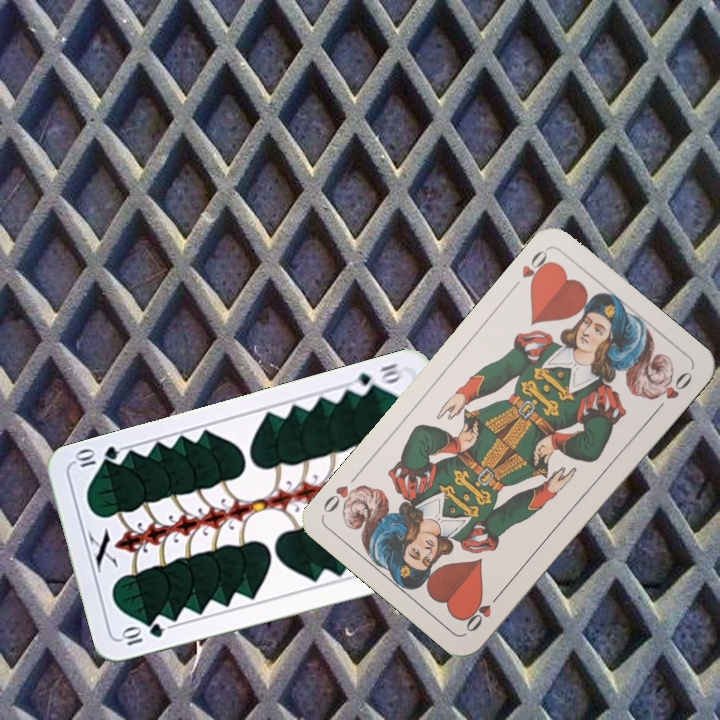G10: (349, 358, 406, 398), (117, 619, 167, 649)
HO: (461, 587, 505, 635), (517, 245, 556, 292)
